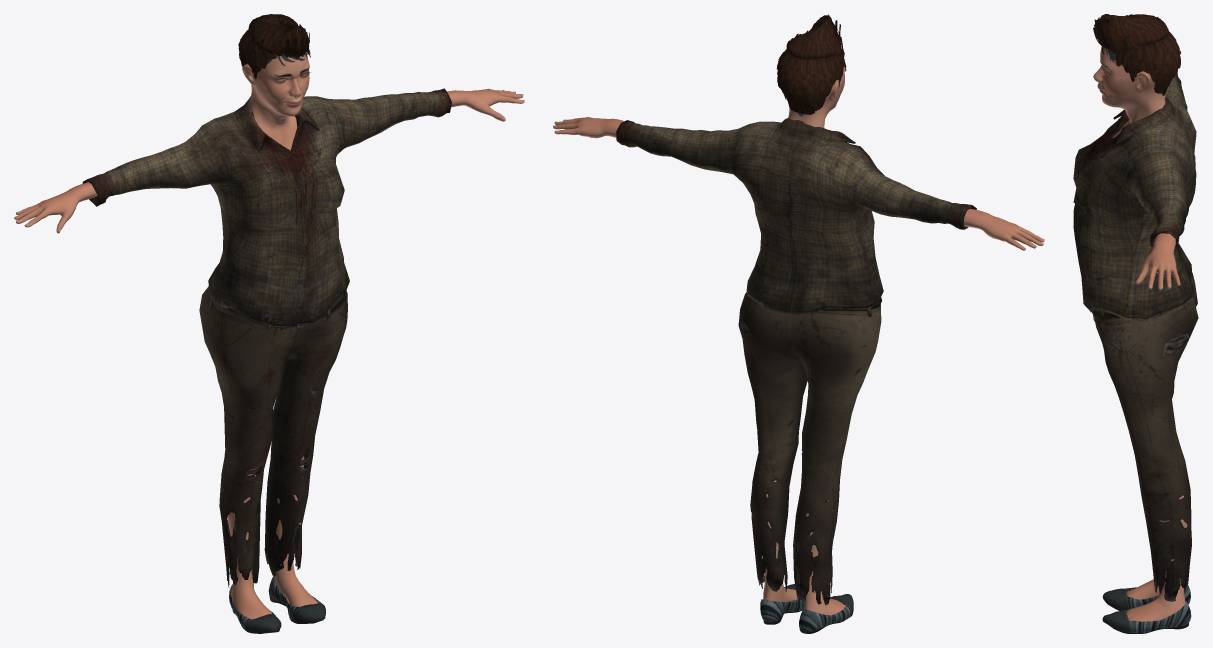
File: female2.obj
3 renders of one model, left to right at view 1: azimuth 30°, elevation 25°; view 2: azimuth 150°, elevation 25°; view 3: azimuth 270°, elevation 25°, orthographic. The views are drawn at different scales.
Visible parts, largest first — view 1: Tops, Bottoms, Body, Hair, Shoes; view 2: Tops, Bottoms, Body, Hair, Shoes; view 3: Tops, Bottoms, Body, Hair, Shoes.
Boxes of the visible parts, box(x1,y1,x2,y2) form: Tops: box(82, 88, 451, 327); Bottoms: box(199, 286, 347, 587); Body: box(14, 19, 524, 619); Hair: box(238, 14, 310, 78); Shoes: box(229, 576, 325, 633); Tops: box(616, 118, 976, 315); Bottoms: box(738, 292, 881, 604); Body: box(553, 50, 1044, 615); Hair: box(776, 14, 846, 114); Shoes: box(760, 584, 853, 633); Tops: box(1073, 72, 1196, 321); Bottoms: box(1090, 272, 1198, 601); Body: box(1093, 33, 1187, 626); Hair: box(1093, 14, 1181, 95); Shoes: box(1102, 585, 1191, 633).
Bounding box in the file's own units: 150 × 172 × 32.3.
Materials: 5 (5 with a texture image).
